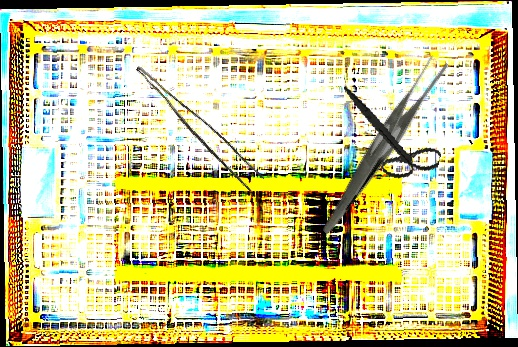Dressing Forceps: (279, 51, 485, 235)
Iris Scissors: (326, 84, 452, 188)
Tissue Forceps: (123, 65, 268, 193)
